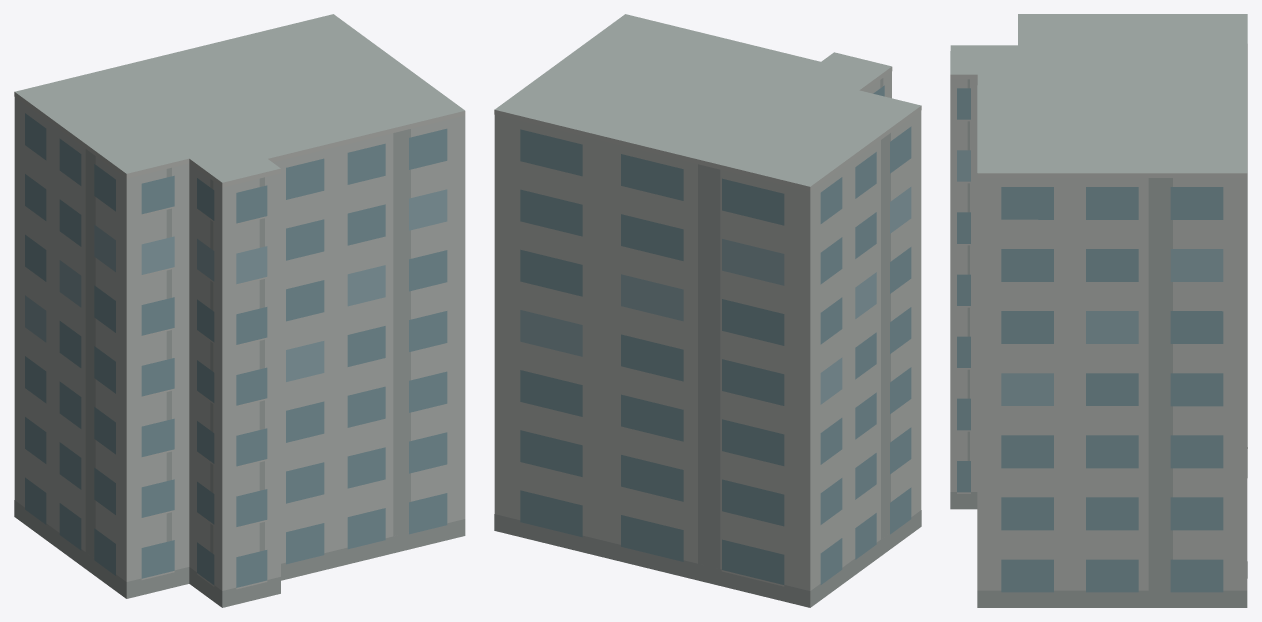
File: survey-upis-32559494.glb
3 renders of one model, left to right at view 1: azimuth 30°, elevation 25°; view 2: azimuth 150°, elevation 25°; view 3: azimuth 270°, elevation 25°, orthographic. The views are drawn at different scales.
Parts seen in each view (by area): view 1: survey-upis-32559494.tmp; view 2: survey-upis-32559494.tmp; view 3: survey-upis-32559494.tmp.
Part boxes in pixels (x1,y1,x2,y2): survey-upis-32559494.tmp: [14, 14, 465, 607]; survey-upis-32559494.tmp: [494, 14, 921, 607]; survey-upis-32559494.tmp: [950, 14, 1247, 607].
Size of the model in its own units: 16.78 by 21.35 by 13.25.
